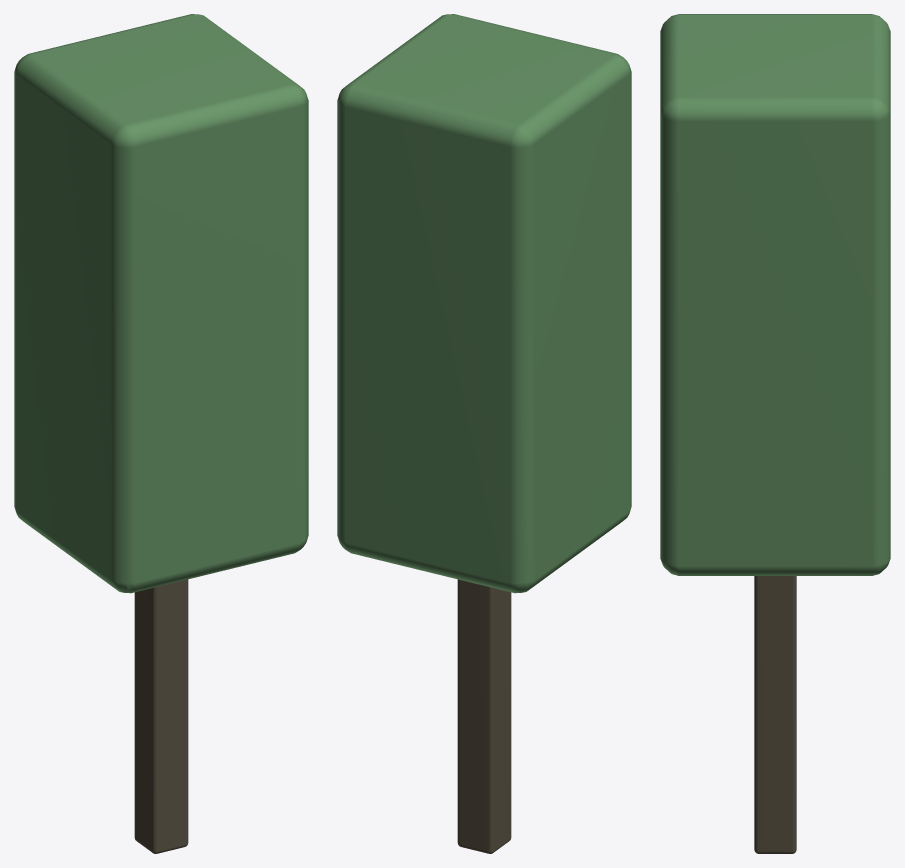
Rendered from Tree_006.fbx.
The picture shows the model from 3 angles, left to right: view 1: azimuth 30°, elevation 25°; view 2: azimuth 150°, elevation 25°; view 3: azimuth 270°, elevation 25°; orthographic projection. The views are drawn at different scales.
Visible parts, largest first — view 1: tree_006; view 2: tree_006; view 3: tree_006.
Boxes of the visible parts, box(x1,y1,x2,y2) form: tree_006: box(14, 14, 308, 853); tree_006: box(337, 14, 631, 853); tree_006: box(660, 14, 890, 853).
Bounding box in the file's own units: 1.34 × 5.06 × 1.34.
